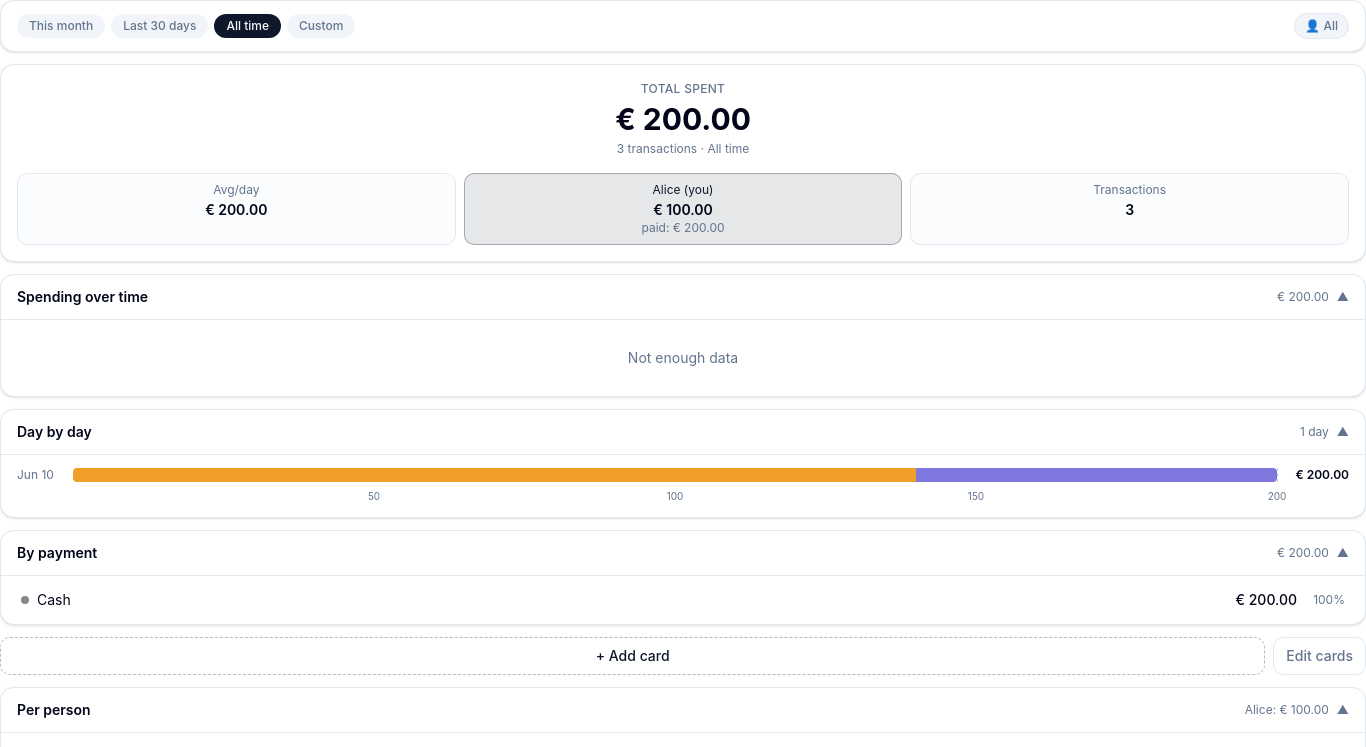
DashboardTab — pivot cards › treats a dimension used only by a HIDDEN card as used
Click the button "+ Add card".
click(633, 656)  # box 0,637 -> 1265,675
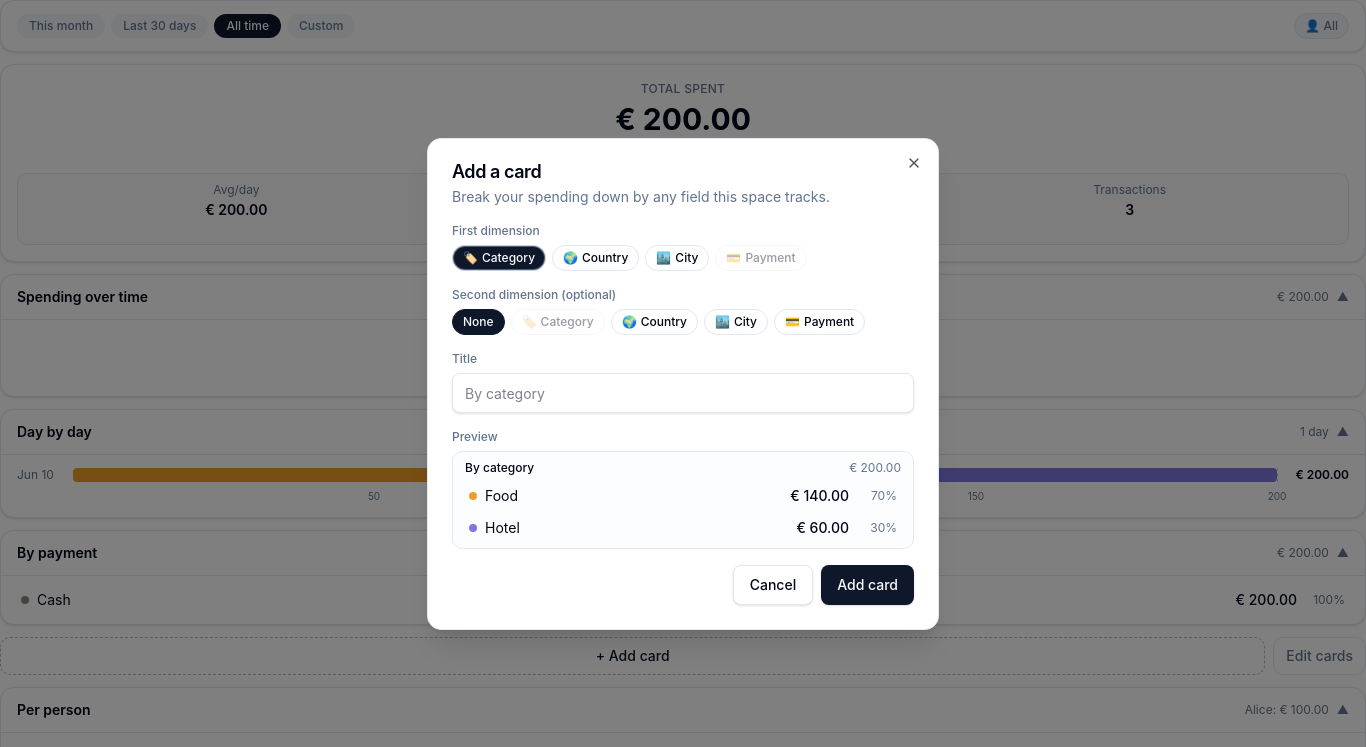
expect the button "💳 Payment" below "First dimension" is disabled: met, box 715,245 -> 807,271
